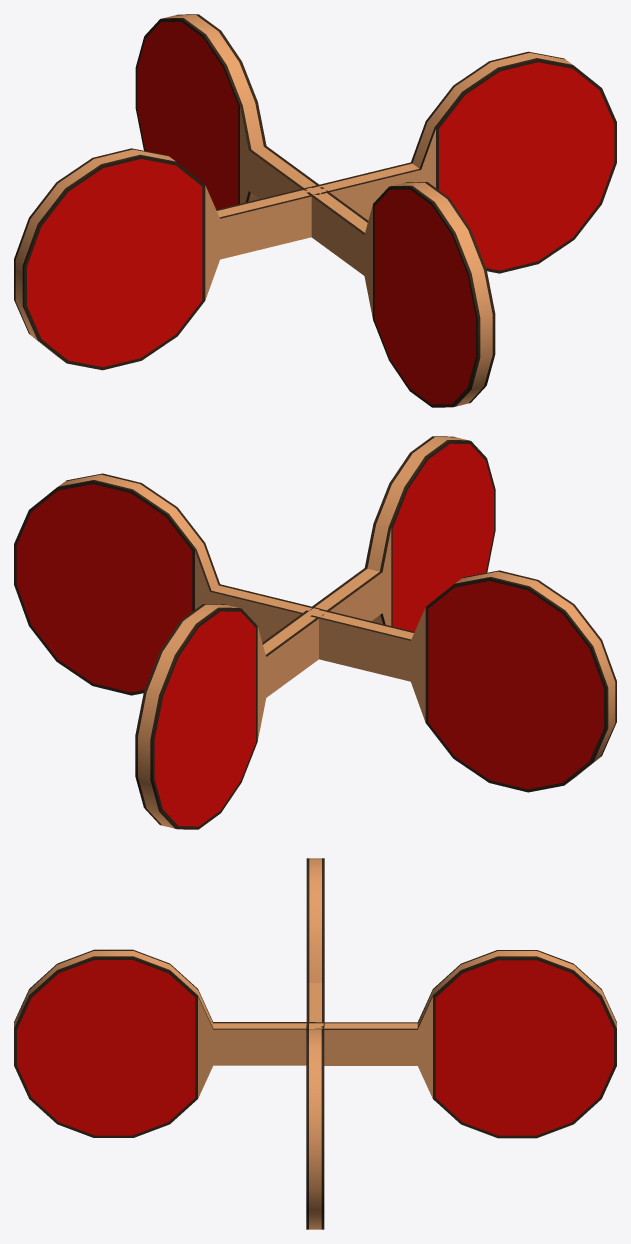
The model's file is 4racket (2).fbx.
3 views of the same model, one above another, from view 1: azimuth 30°, elevation 25°; view 2: azimuth 150°, elevation 25°; view 3: azimuth 270°, elevation 25° (orthographic). The views are drawn at different scales.
Parts seen in each view (by area): view 1: racket.001; view 2: racket.001; view 3: racket.001.
Boxes of the visible parts, x1,y1,x2,y2 form: racket.001: (14,14,616,407); racket.001: (14,436,616,829); racket.001: (14,858,616,1229).
Size of the model in its own units: 593 by 196 by 593.
